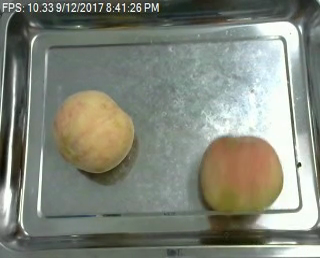Peach: (52, 89, 134, 173), (198, 136, 283, 214)
